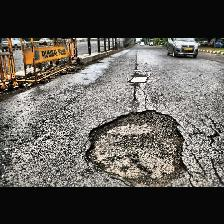pothole: (83, 106, 186, 186)
